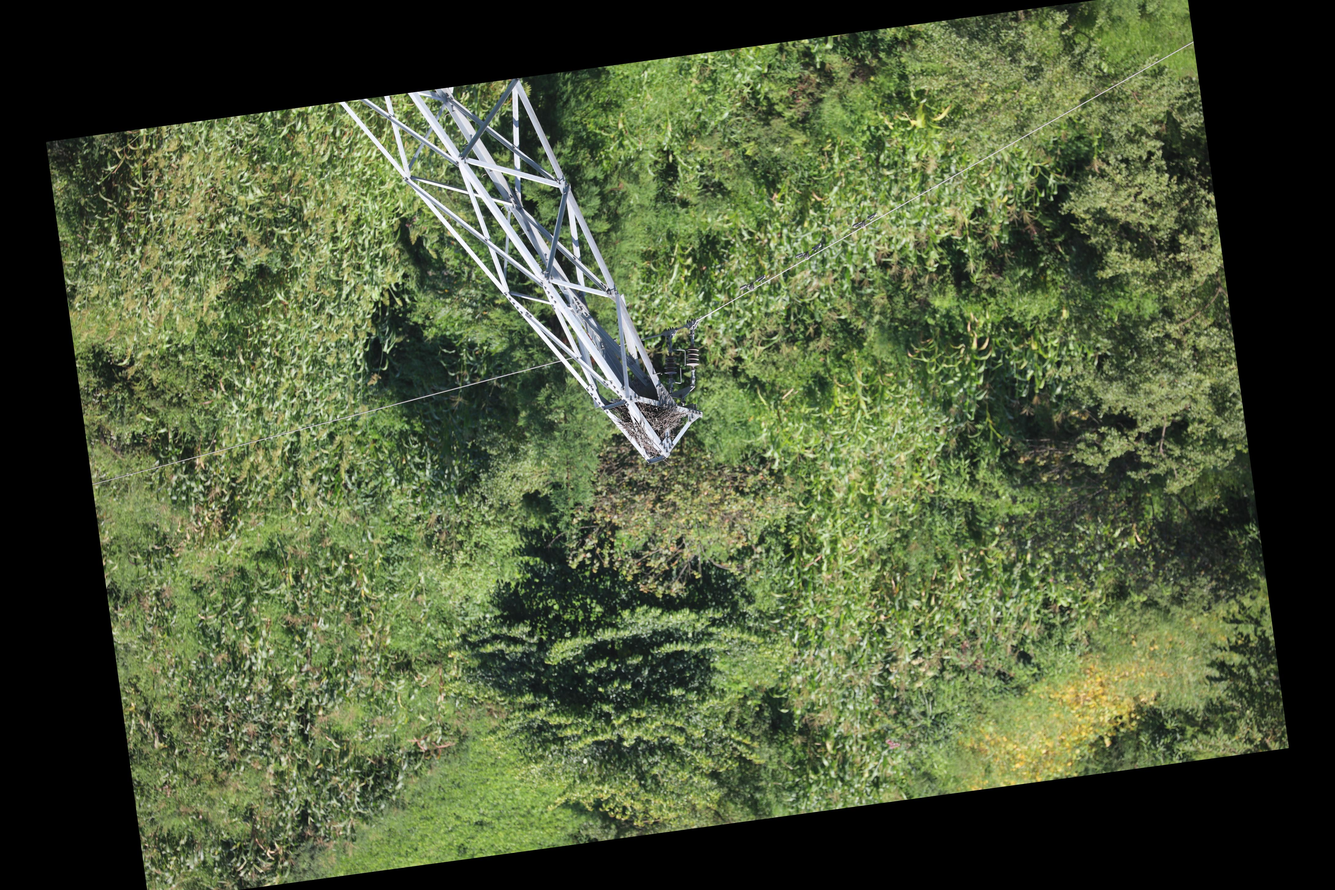damper: (736, 272, 769, 295), (792, 241, 825, 263), (849, 210, 881, 232)
